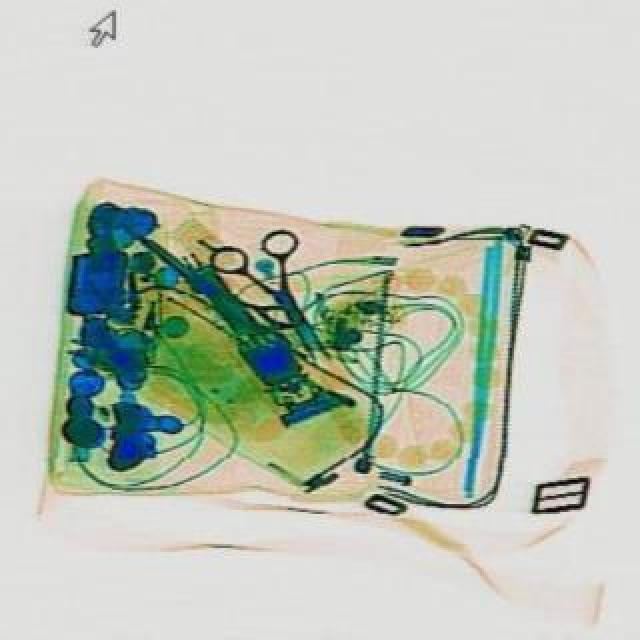pliers: (212, 214, 366, 380)
